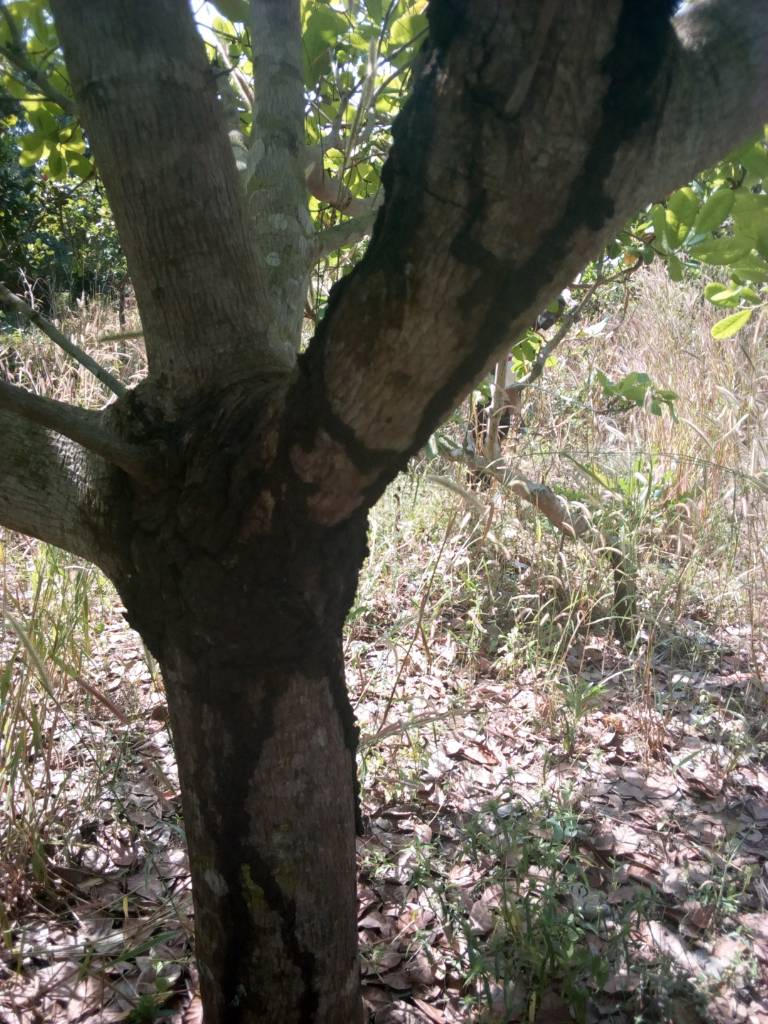Termites: (146, 441, 369, 874)
